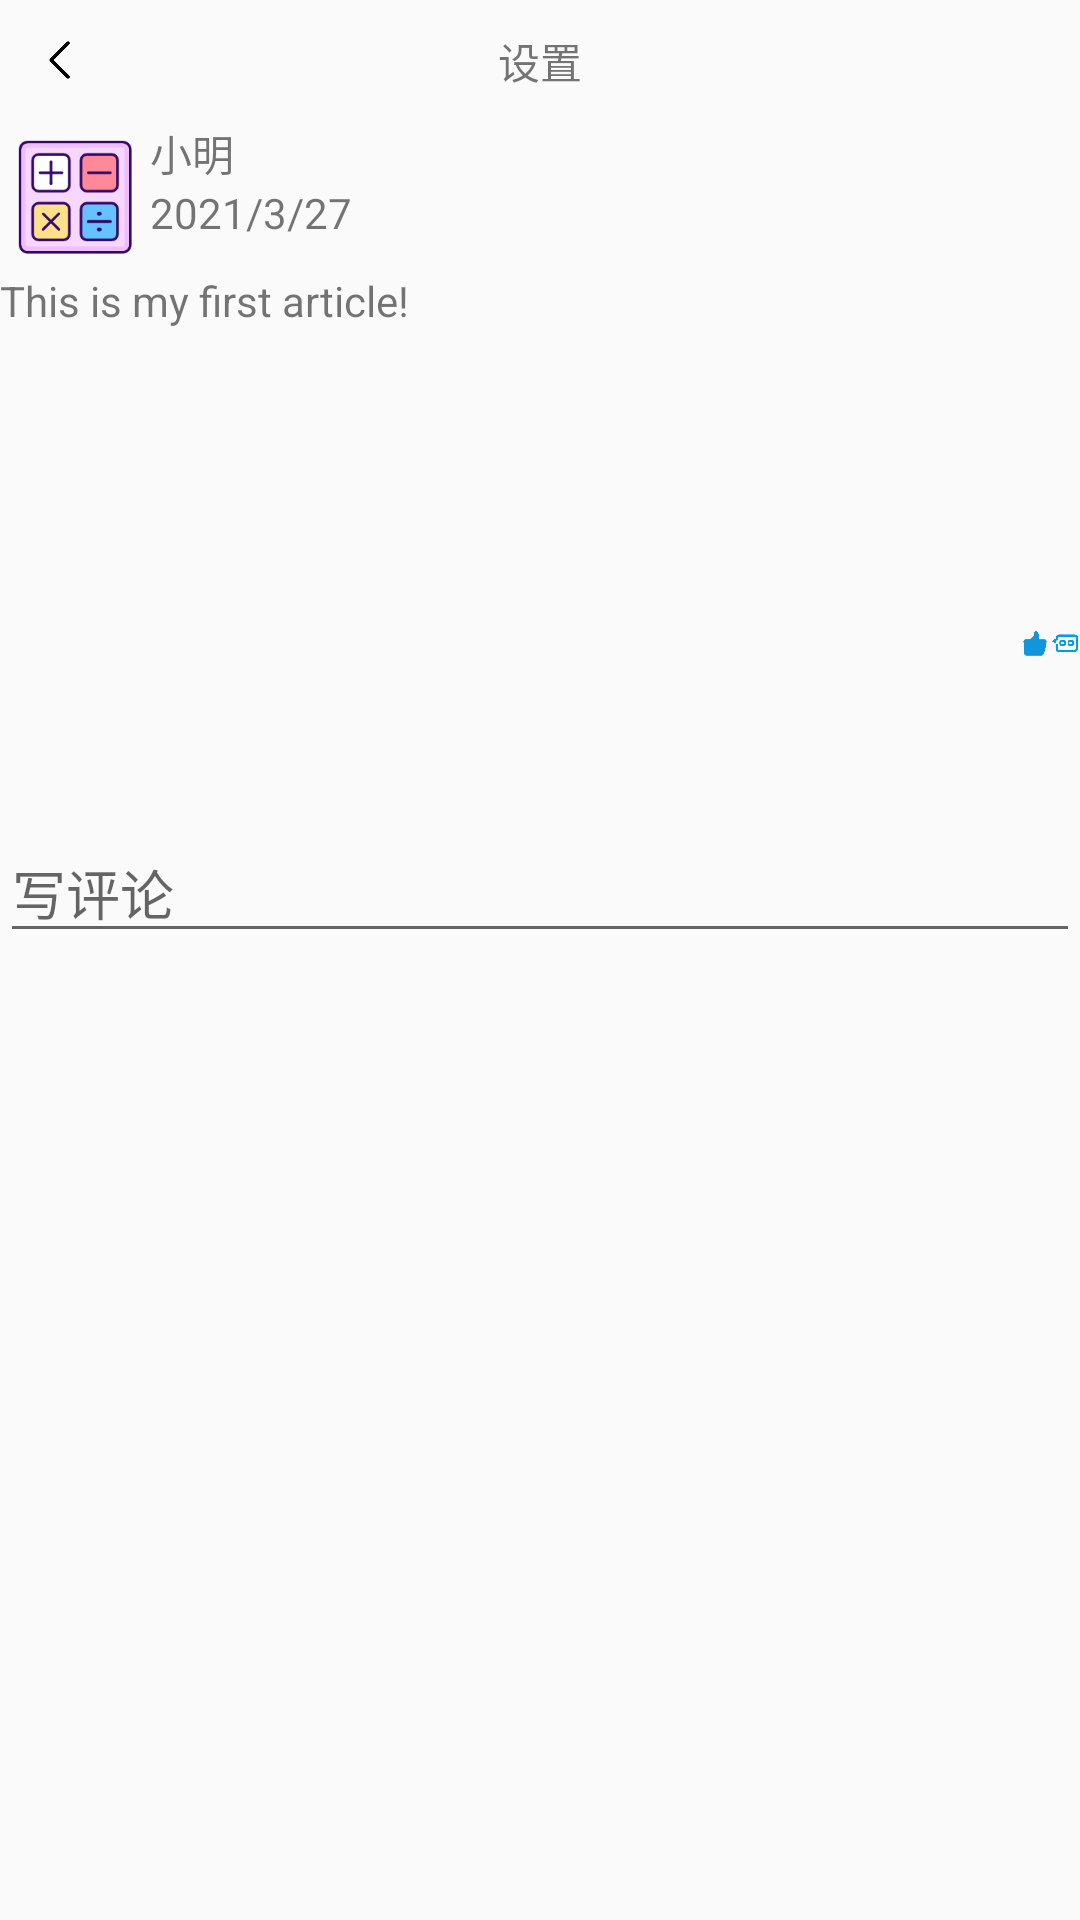

Where icons sit on this 1080w x 1920h app screen, as Rect(x1, y1, x2, y2):
comment: Rect(1052, 634, 1078, 652)
leftjiantou: Rect(49, 41, 70, 79)
math: Rect(18, 140, 132, 254)
